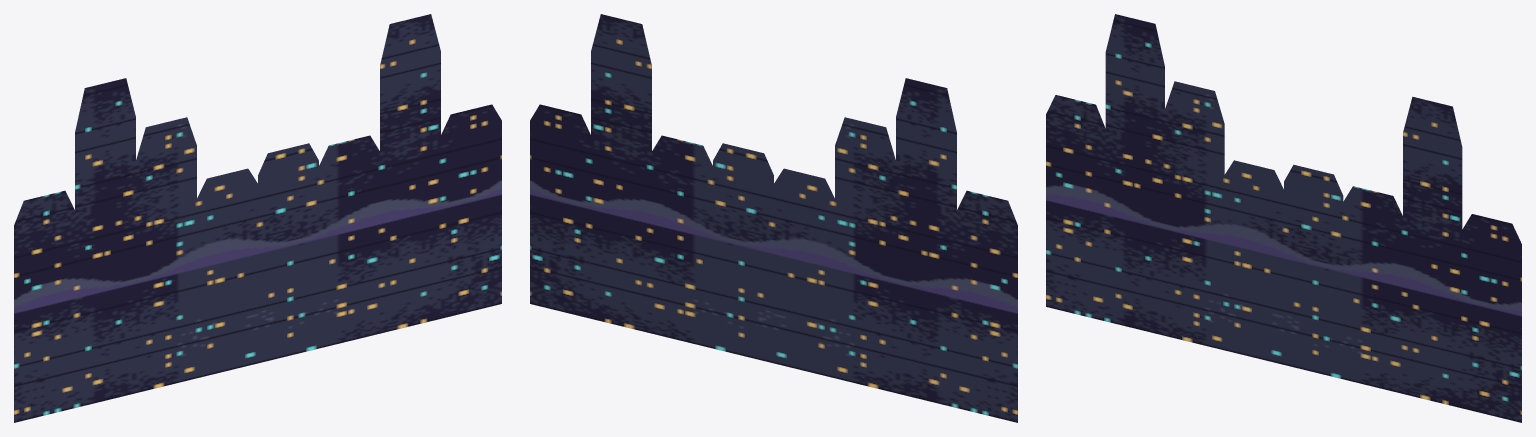
The model's file is cysky.arch.glb.
3 views of the same model, side by side, from view 1: azimuth 30°, elevation 25°; view 2: azimuth 150°, elevation 25°; view 3: azimuth 330°, elevation 25° (orthographic). The views are drawn at different scales.
Parts seen in each view (by area): view 1: kit_card_skyline; view 2: kit_card_skyline; view 3: kit_card_skyline.
Part boxes in pixels (x1,y1,x2,y2): kit_card_skyline: (14, 14, 501, 422); kit_card_skyline: (530, 14, 1017, 422); kit_card_skyline: (1046, 14, 1521, 422).
Size of the model in its own units: 56 by 34.84 by 0.
1 material, 1 textured.
